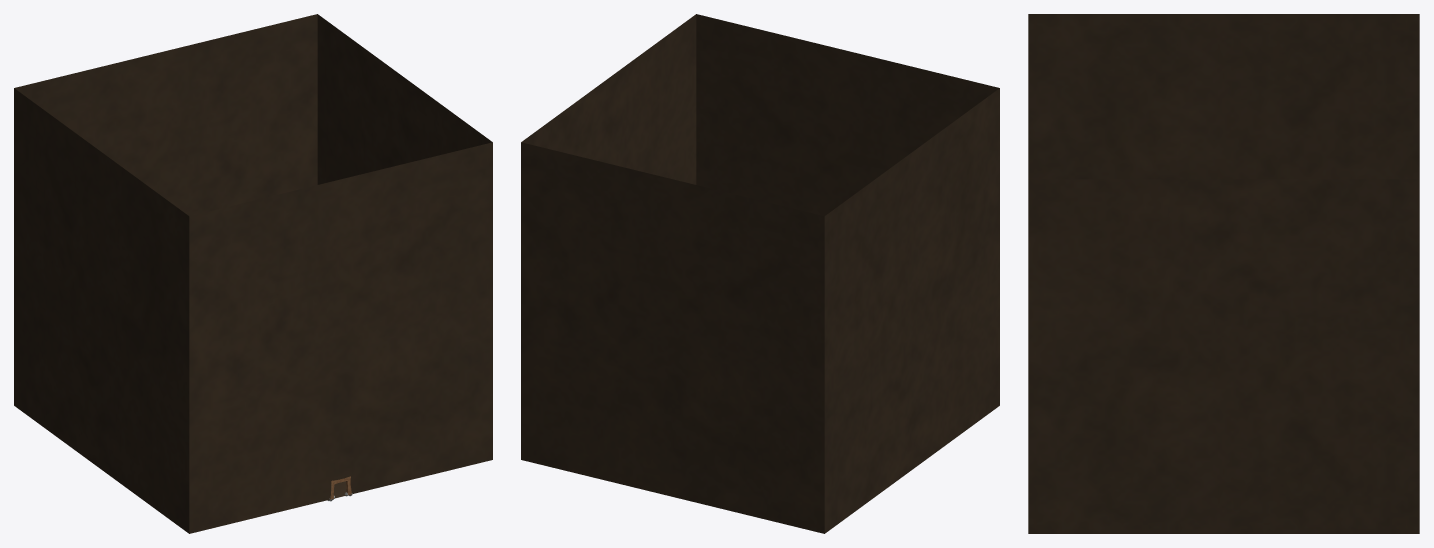
The model's file is DeadEnd.fbx.
3 renders of one model, left to right at view 1: azimuth 30°, elevation 25°; view 2: azimuth 150°, elevation 25°; view 3: azimuth 270°, elevation 25°, orthographic. The views are drawn at different scales.
Visible parts, largest first — view 1: 4Pared, 3ParedSinPuerta, 2ParedSinPuerta, 1ParedSinPuerta, 4Pared.001, 4Pared.002; view 2: 2ParedSinPuerta, 3ParedSinPuerta, 4Pared, 1ParedSinPuerta; view 3: 1ParedSinPuerta, 3ParedSinPuerta.
Part boxes in pixels (bbox=[...]): 4Pared: bbox=[189, 142, 492, 517]; 3ParedSinPuerta: bbox=[14, 88, 189, 533]; 2ParedSinPuerta: bbox=[14, 14, 317, 216]; 1ParedSinPuerta: bbox=[317, 14, 492, 184]; 4Pared.001: bbox=[189, 483, 331, 533]; 4Pared.002: bbox=[350, 444, 492, 494]; 2ParedSinPuerta: bbox=[521, 142, 824, 533]; 3ParedSinPuerta: bbox=[824, 88, 999, 533]; 4Pared: bbox=[696, 14, 999, 216]; 1ParedSinPuerta: bbox=[521, 14, 696, 184]; 1ParedSinPuerta: bbox=[1028, 179, 1419, 533]; 3ParedSinPuerta: bbox=[1028, 14, 1419, 179].
Bounding box in the file's own units: 9600 × 9693 × 9605.
